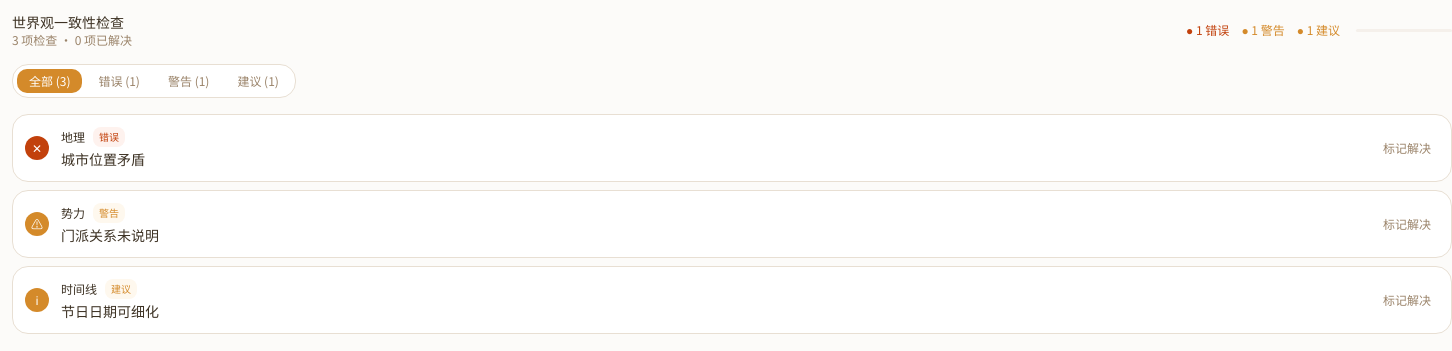
Test: WorldConsistency › filters items by severity
Click the button "错误 (1)": (119,81) [86, 69, 152, 93]
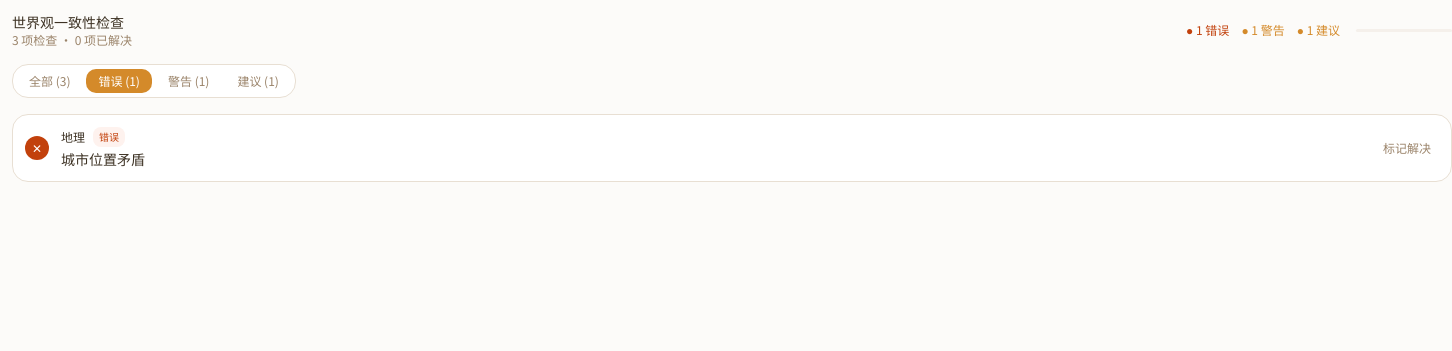
Expected: the text "城市位置矛盾" is shown, [61, 149, 145, 169]
Now the text "门派关系未说明" is gone
Click the button "警告 (1)": (189,81) [156, 69, 221, 93]
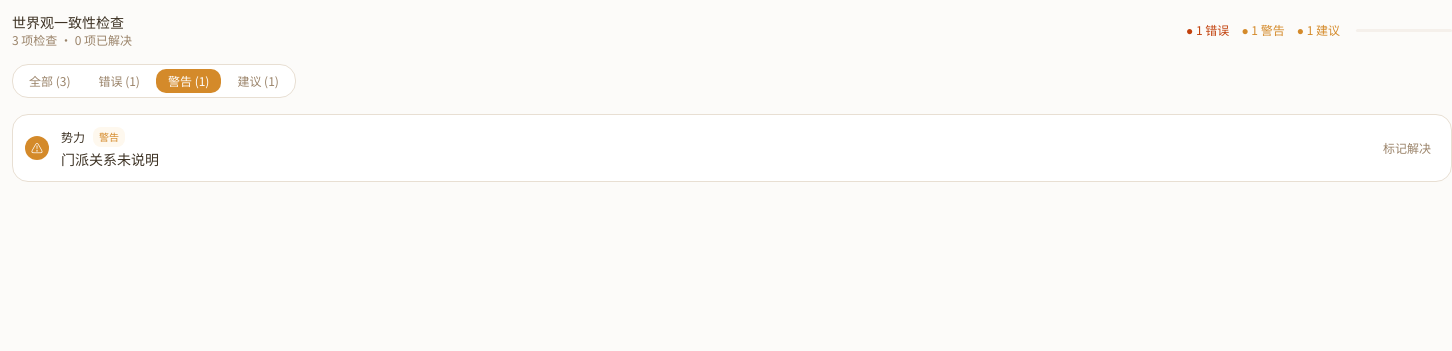
Now the text "门派关系未说明" is shown, box [61, 149, 159, 169]
Click the button "建议 (1)": (258,81) [225, 69, 291, 93]
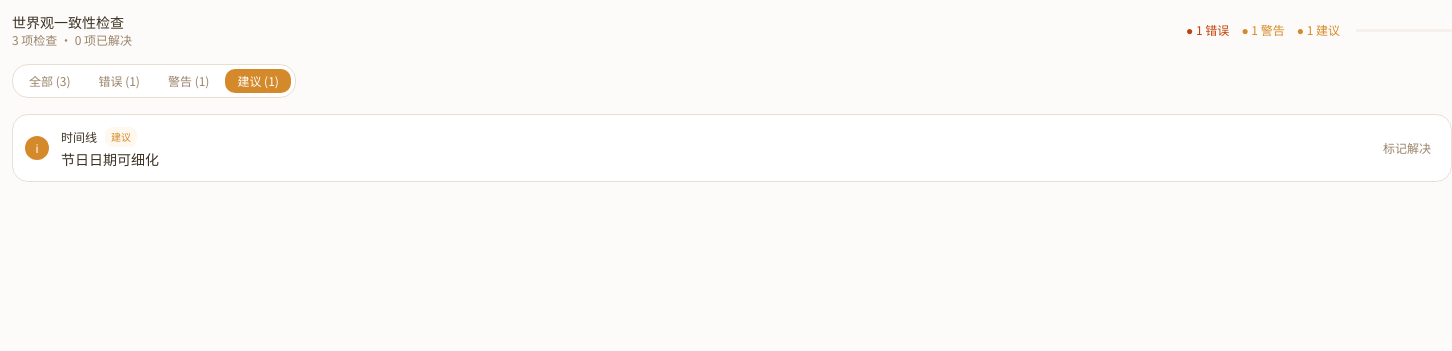
Now the text "节日日期可细化" is shown, box [61, 149, 159, 169]
Click the button "全部 (3)": (50,81) [17, 69, 82, 93]
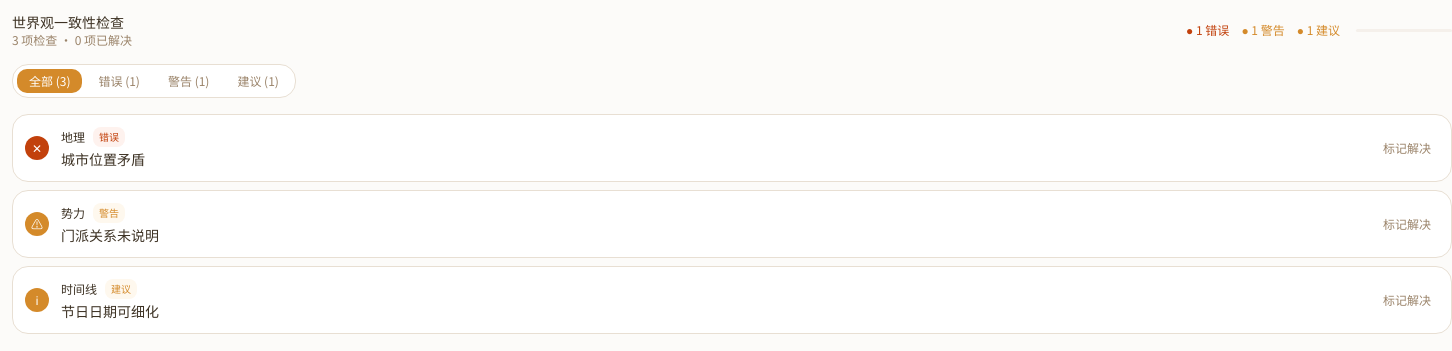
Now the text "节日日期可细化" is shown, box [61, 301, 159, 321]
Now the text "城市位置矛盾" is shown, box [61, 149, 145, 169]
Now the text "门派关系未说明" is shown, box [61, 225, 159, 245]
